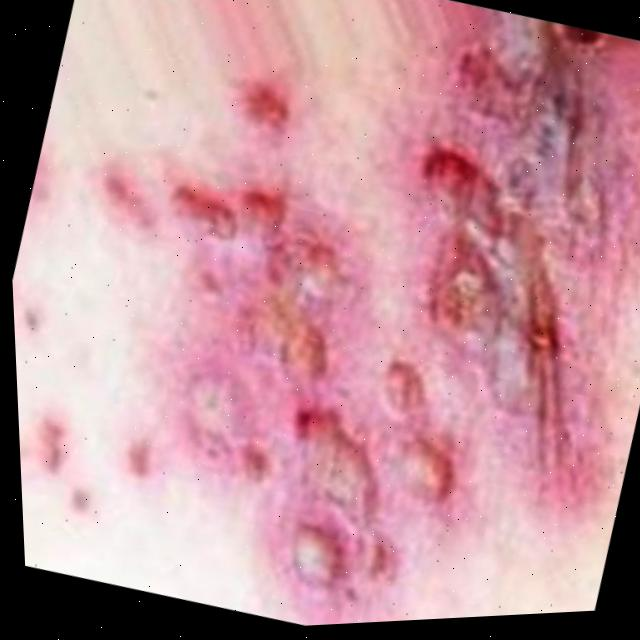Shingles: (109, 1, 640, 634), (535, 20, 619, 80)
